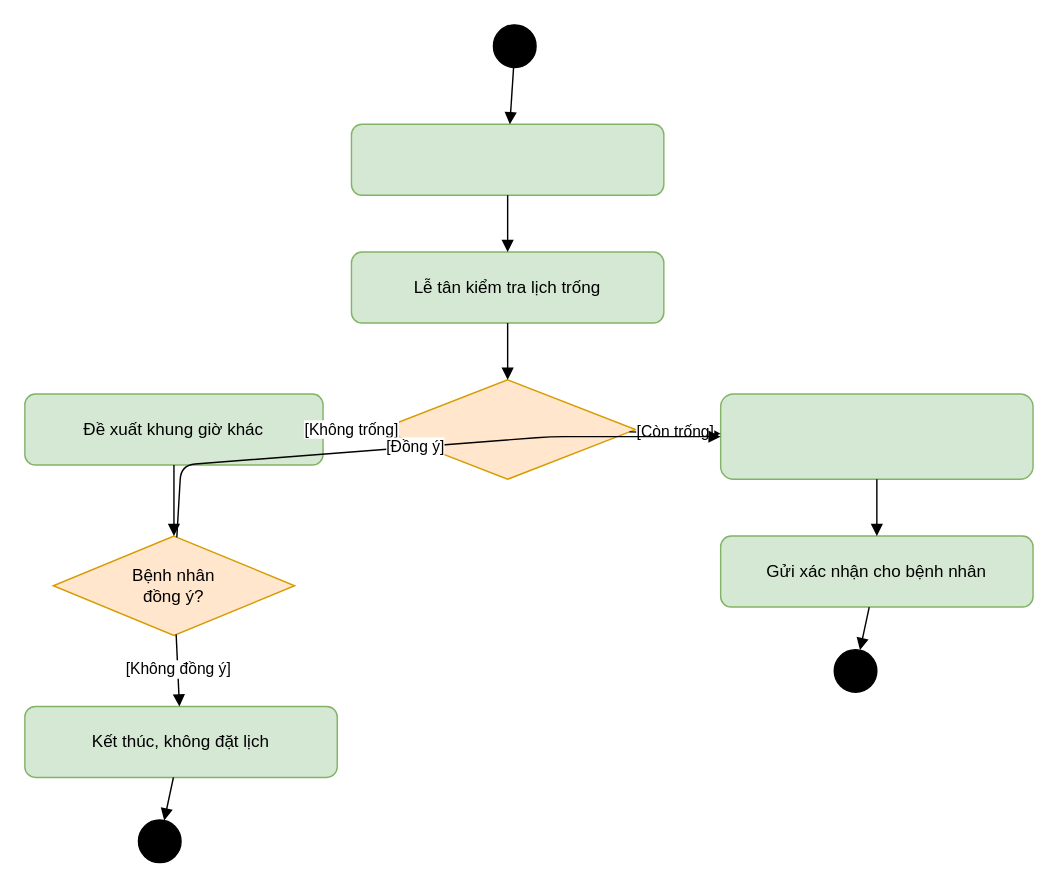
This 1058x888 diagram has some shape labels left out. Each missing label, with the centre of its shape:
Bệnh nhân yêu cầu đặt lịch hẹn: (x=507, y=159)
Còn trống?: (x=506, y=428)
Tạo lịch hẹn (trạng thái: Chờ xác nhận): (x=876, y=436)
